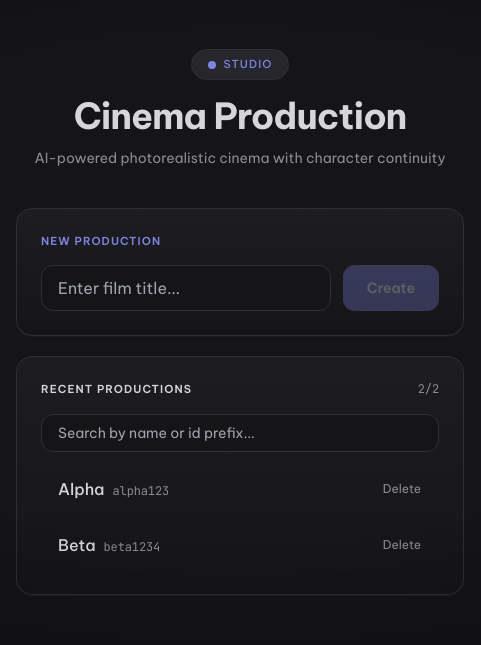
Test: ProjectSelector project deletion › surfaces a busy or server rejection and keeps the project
The width and height of the screenshot is (481, 645).
Expected: the text "Alpha" is shown, [58,479,104,499]
Click the button with aria-label "Delete Alpha". click: (402,489)
box: [374,476,430,502]
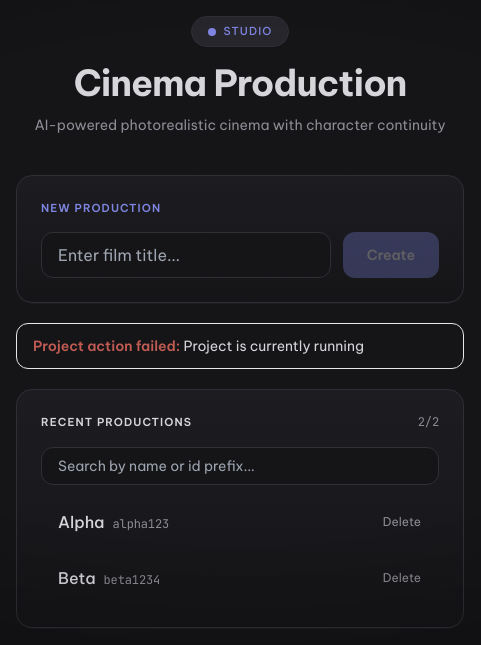
Expected: the text "Alpha" is shown, [58,512,104,532]
Now the message shows "Project is currently running", box [183,337,364,355]
